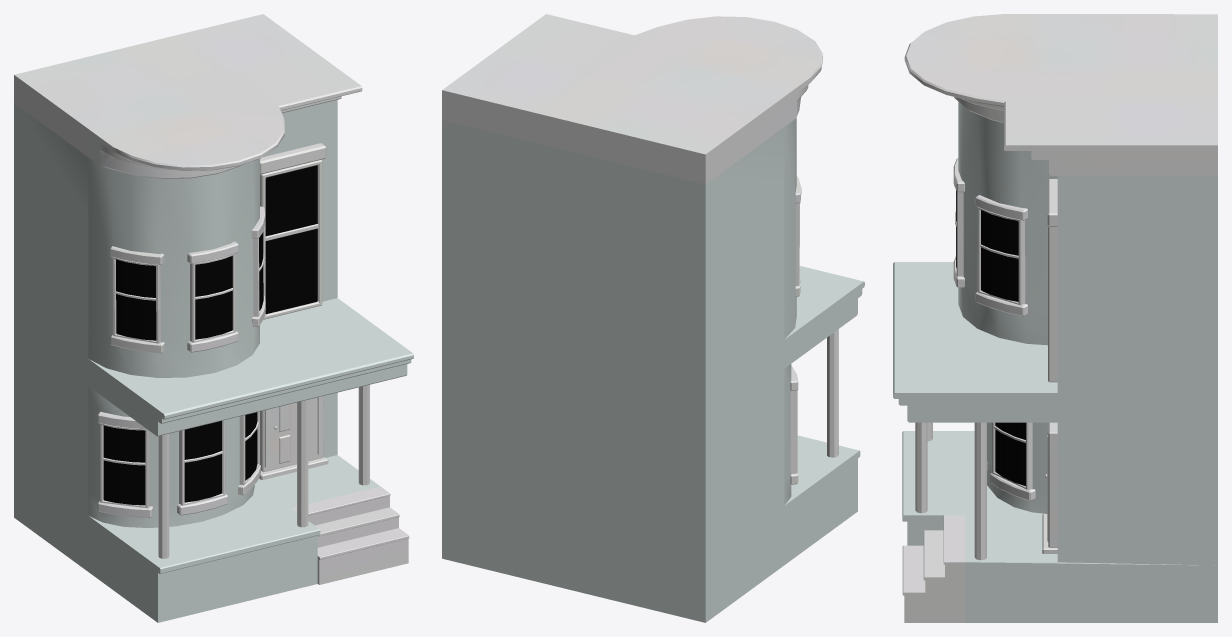
The model's file is DarrenHouse2.fbx.
The picture shows the model from 3 angles, left to right: view 1: azimuth 30°, elevation 25°; view 2: azimuth 150°, elevation 25°; view 3: azimuth 270°, elevation 25°; orthographic projection. The views are drawn at different scales.
Parts seen in each view (by area): view 1: polySurface37; view 2: polySurface37; view 3: polySurface37.
Part boxes in pixels (box(x1,y1,x2,y2)): polySurface37: box(14, 14, 413, 622); polySurface37: box(442, 14, 864, 622); polySurface37: box(893, 14, 1217, 622).
Bounding box in the file's own units: 5.03 × 8.5 × 5.23.
